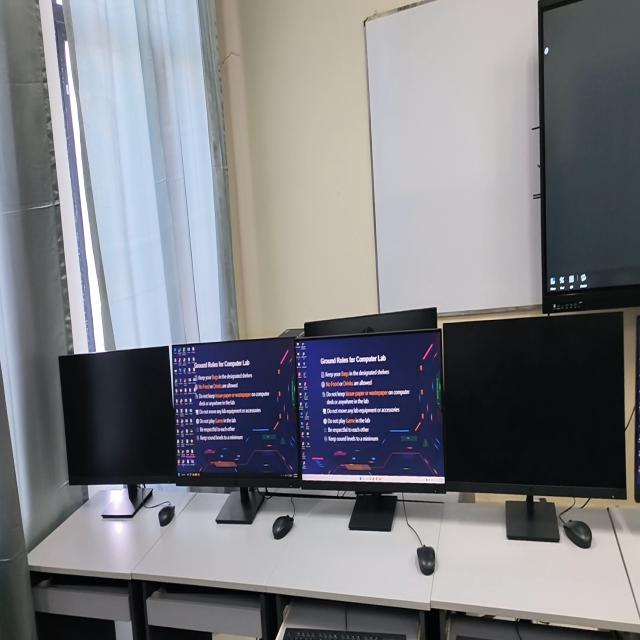Digital board: (539, 0, 640, 313)
Monitor: (443, 313, 625, 499), (295, 327, 444, 487), (172, 338, 299, 487), (59, 347, 176, 484), (304, 308, 437, 337)
Mouse: (564, 520, 592, 548), (417, 545, 435, 575), (272, 515, 293, 539), (158, 505, 174, 526)
